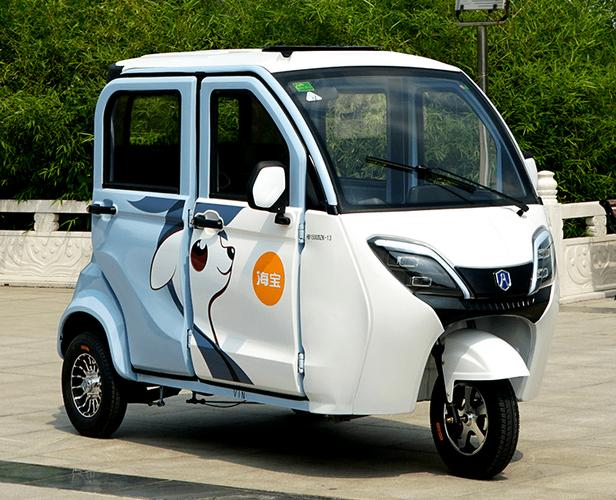empty: (38, 37, 565, 479)
